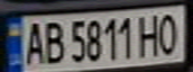1: (115, 13, 136, 60), (103, 15, 121, 61)
5: (66, 17, 87, 64)
8: (84, 16, 103, 63)
A: (21, 18, 48, 66)
B: (39, 18, 66, 65)
H: (136, 11, 163, 57)
O: (154, 9, 184, 56)
